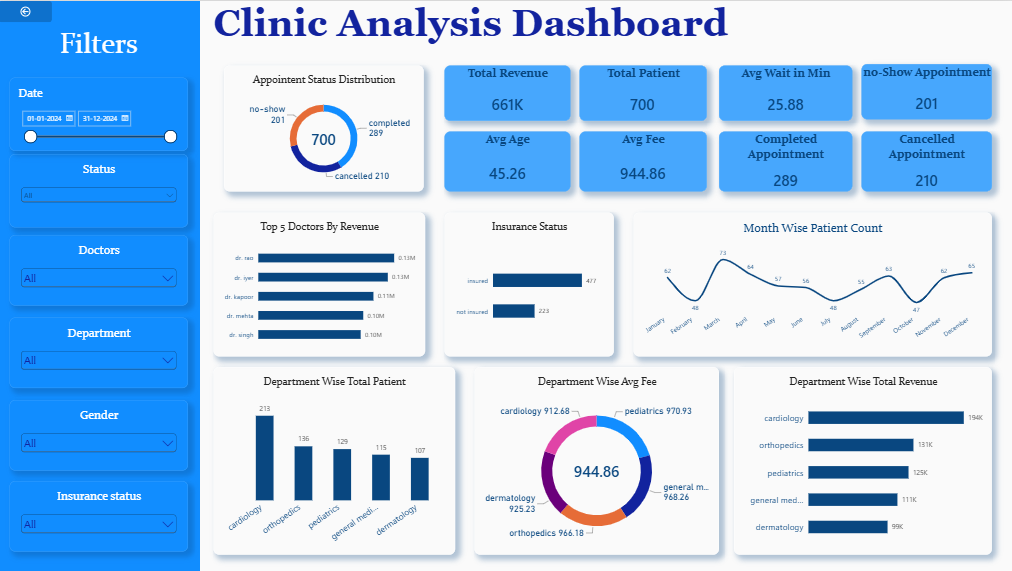

Layout of this report page (visuals, bound fields, positions):
{"tool":"powerbi","page":{"name":"Page 1","canvas":[1920,1080],"ordinal":0},"visuals":[{"type":"shape","box":[0,0,379.8,1080],"z":1000},{"type":"actionButton","box":[0,0,100,40],"z":2000},{"type":"cardVisual","title":"Avg Age","fields":{"Data":["Avg(clinic_clean.age)"]},"box":[841.9,246.6,238.1,113.4],"z":3000},{"type":"cardVisual","title":"Total Revenue","fields":{"Data":["Sum(clinic_clean.fee)"]},"box":[841.9,121.9,238.1,104.9],"z":4000},{"type":"cardVisual","title":"Avg Fee","fields":{"Data":["Avg(clinic_clean.fee)"]},"box":[1097,246.6,240.9,113.4],"z":5000},{"type":"cardVisual","title":"Total Patient","fields":{"Data":["CountNonNull(clinic_clean.patientid)"]},"box":[1097,121.9,240.9,104.9],"z":6000},{"type":"cardVisual","title":"Avg Wait in Min","fields":{"Data":["Avg(clinic_clean.waittime_min)"]},"box":[1360.6,121.9,252.3,104.9],"z":7000},{"type":"cardVisual","title":"Completed Appointment","fields":{"Data":["clinic_clean.completed appoinments"]},"box":[1360.6,246.6,252.3,113.4],"z":8000},{"type":"cardVisual","title":"Cancelled Appointment","fields":{"Data":["clinic_clean.cancelled"]},"box":[1629.9,246.6,246.6,113.4],"z":9000},{"type":"cardVisual","title":"no-Show Appointment","fields":{"Data":["clinic_clean.no-show"]},"box":[1629.9,119.1,246.6,104.9],"z":10000},{"type":"columnChart","title":"Department Wise Total Patient","fields":{"Category":["clinic_clean.department"],"Y":["CountNonNull(clinic_clean.patientid)"]},"box":[405.4,691.7,456.4,354.3],"z":11000},{"type":"barChart","title":"Department Wise Total Revenue","fields":{"Category":["clinic_clean.department"],"Y":["Sum(clinic_clean.fee)"]},"box":[1389,691.7,487.6,354.3],"z":12000},{"type":"donutChart","title":"Department Wise Avg Fee","fields":{"Category":["clinic_clean.department"],"Y":["Avg(clinic_clean.fee)"]},"box":[898.6,691.7,462.1,354.3],"z":13000},{"type":"lineChart","title":"Month Wise Patient Count","fields":{"Category":["clinic_clean.appointmentdate.Variation.Date Hierarchy.Month"],"Y":["CountNonNull(clinic_clean.patientid)"]},"box":[1199.1,399.7,677.5,272.1],"z":14000},{"type":"slicer","title":"Date","fields":{"Values":["clinic_clean.appointmentdate"]},"box":[19.8,144.6,337.3,138.9],"z":15000},{"type":"slicer","title":"Doctors","fields":{"Values":["clinic_clean.doctor"]},"box":[19.8,442.2,337.3,133.2],"z":16000},{"type":"slicer","title":"Department","fields":{"Values":["clinic_clean.department"]},"box":[19.8,598.1,337.3,133.2],"z":17000},{"type":"slicer","title":"Gender","fields":{"Values":["clinic_clean.gender"]},"box":[19.8,754,337.3,133.2],"z":18000},{"type":"slicer","title":"Insurance status","fields":{"Values":["clinic_clean.insurancestatus"]},"box":[19.8,907.1,337.3,133.2],"z":19000},{"type":"slicer","title":"Status","fields":{"Values":["clinic_clean.status"]},"box":[19.8,289.1,337.3,138.9],"z":20000},{"type":"actionButton","title":"Filters","box":[19.8,45.4,337.3,87.9],"z":21000},{"type":"textbox","box":[405.4,0,1513.7,85],"z":21001},{"type":"barChart","title":"Insurance Status","fields":{"Category":["clinic_clean.insurancestatus"],"Y":["CountNonNull(clinic_clean.patientid)"]},"box":[841.9,399.7,320.3,272.1],"z":21002},{"type":"donutChart","title":"Appointent Status Distribution","fields":{"Category":["clinic_clean.status"],"Y":["CountNonNull(clinic_clean.patientid)"]},"box":[425.2,121.9,377,238.1],"z":21003},{"type":"barChart","title":"Top 5 Doctors By Revenue","fields":{"Category":["clinic_clean.doctor"],"Y":["Sum(clinic_clean.fee)"]},"box":[405.4,399.7,399.7,272.1],"z":21004}]}

Visuals, with their boxes in screenshot pixels (x1, y1, x2, y2), scaled from the page's 1920x1080 canvas onto the 1012x571 screenshot:
shape: bbox(0, 0, 200, 570)
actionButton: bbox(0, 0, 53, 21)
"Avg Age" cardVisual: bbox(444, 130, 569, 190)
"Total Revenue" cardVisual: bbox(444, 64, 569, 120)
"Avg Fee" cardVisual: bbox(578, 130, 705, 190)
"Total Patient" cardVisual: bbox(578, 64, 705, 120)
"Avg Wait in Min" cardVisual: bbox(717, 64, 850, 120)
"Completed Appointment" cardVisual: bbox(717, 130, 850, 190)
"Cancelled Appointment" cardVisual: bbox(859, 130, 989, 190)
"no-Show Appointment" cardVisual: bbox(859, 63, 989, 118)
"Department Wise Total Patient" columnChart: bbox(214, 366, 454, 553)
"Department Wise Total Revenue" barChart: bbox(732, 366, 989, 553)
"Department Wise Avg Fee" donutChart: bbox(474, 366, 717, 553)
"Month Wise Patient Count" lineChart: bbox(632, 211, 989, 355)
"Date" slicer: bbox(10, 76, 188, 150)
"Doctors" slicer: bbox(10, 234, 188, 304)
"Department" slicer: bbox(10, 316, 188, 387)
"Gender" slicer: bbox(10, 399, 188, 469)
"Insurance status" slicer: bbox(10, 480, 188, 550)
"Status" slicer: bbox(10, 153, 188, 226)
"Filters" actionButton: bbox(10, 24, 188, 70)
textbox: bbox(214, 0, 1011, 45)
"Insurance Status" barChart: bbox(444, 211, 613, 355)
"Appointent Status Distribution" donutChart: bbox(224, 64, 423, 190)
"Top 5 Doctors By Revenue" barChart: bbox(214, 211, 424, 355)
